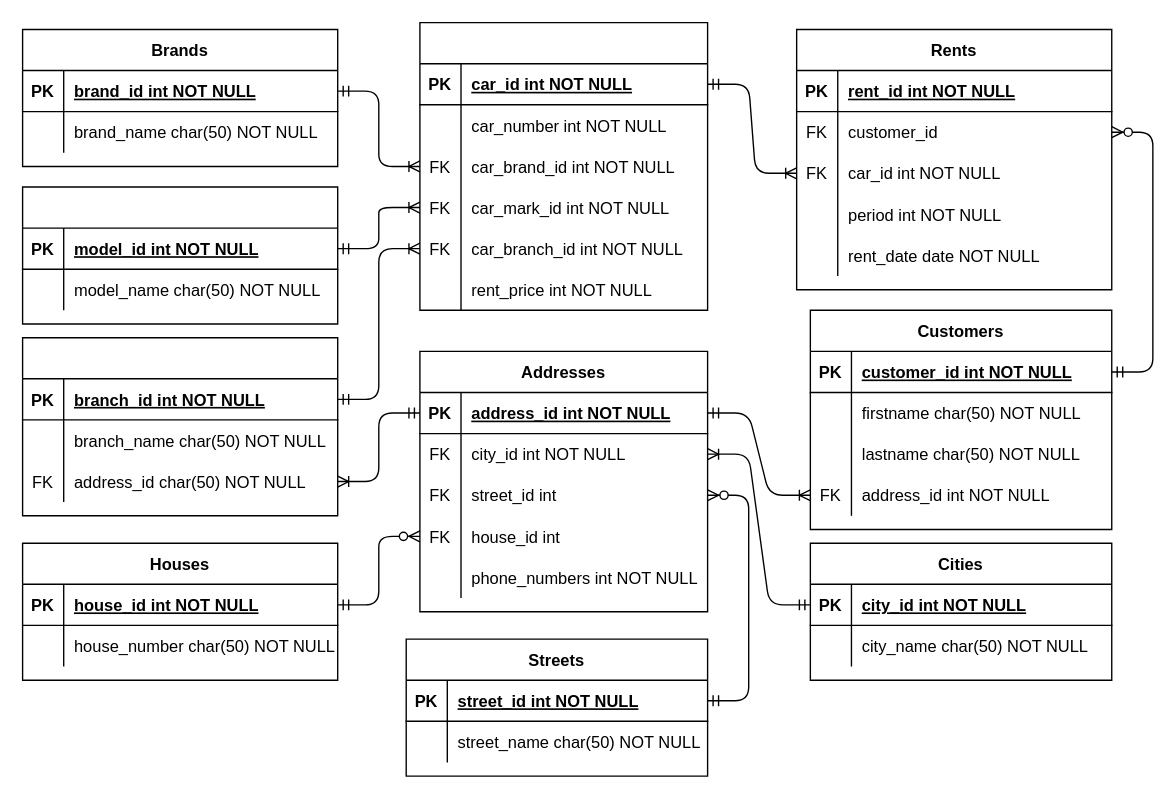
This 1175x799 diagram has some shape labels left out. The box of each missing label's shape, as (x1, y1, x2, y2) in pixels:
Branches: (21, 336, 338, 516)
Cars: (419, 21, 708, 310)
Models: (21, 186, 338, 324)
